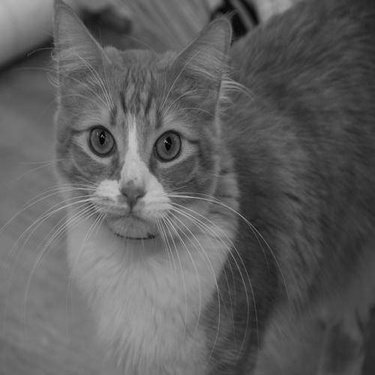cat: (50, 1, 368, 369)
